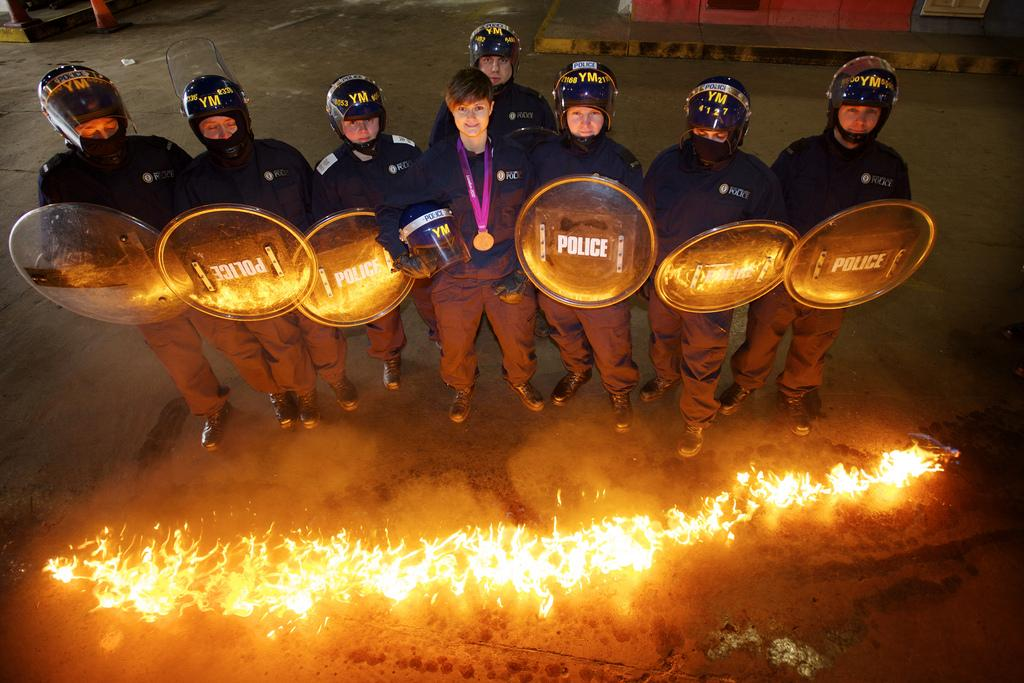fire: (92, 530, 610, 622), (710, 442, 940, 515)
